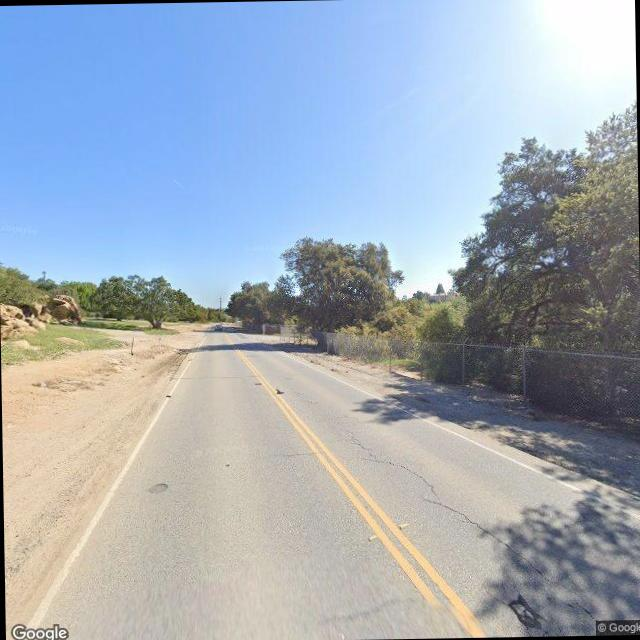crack: (344, 422, 541, 566)
pothole: (494, 585, 544, 634)
